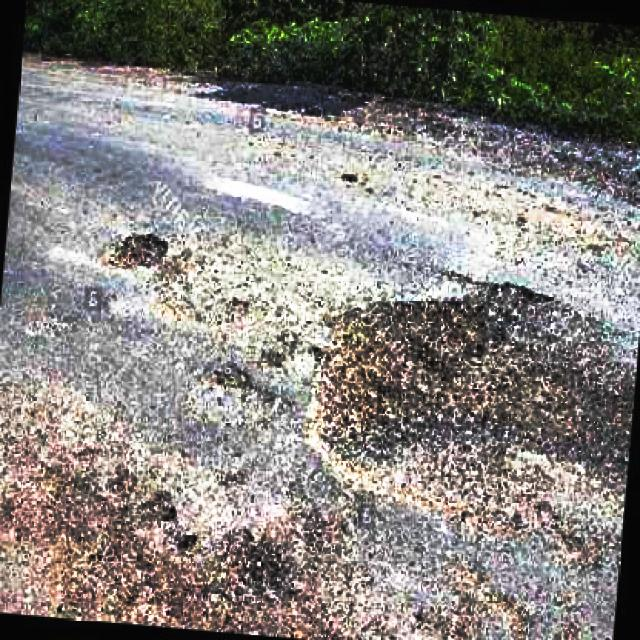pothole: (304, 275, 640, 558), (46, 447, 332, 640), (192, 358, 290, 431), (148, 280, 272, 334), (100, 224, 172, 276)
